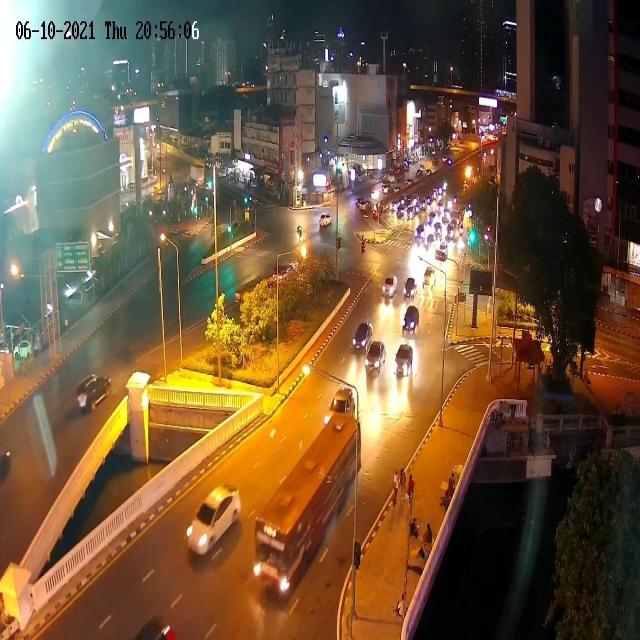Bus: (248, 408, 372, 602)
Car: (185, 476, 244, 572), (76, 365, 112, 418), (320, 383, 357, 427), (393, 340, 415, 386), (365, 338, 386, 381), (351, 318, 374, 356), (380, 272, 399, 302), (403, 305, 419, 338), (421, 265, 438, 289), (402, 276, 417, 301), (318, 210, 332, 233), (416, 223, 426, 241), (410, 193, 419, 211), (436, 199, 444, 219), (441, 208, 450, 225), (399, 191, 409, 206), (440, 242, 449, 258), (426, 210, 436, 224), (445, 228, 455, 241), (434, 222, 443, 236), (418, 199, 427, 212), (389, 198, 398, 210), (406, 209, 415, 221), (360, 200, 368, 213), (424, 195, 432, 208), (398, 205, 405, 218), (382, 184, 390, 194), (393, 186, 401, 194), (425, 170, 432, 178), (406, 178, 412, 186), (416, 168, 422, 176)
Truck: (449, 204, 463, 230)
